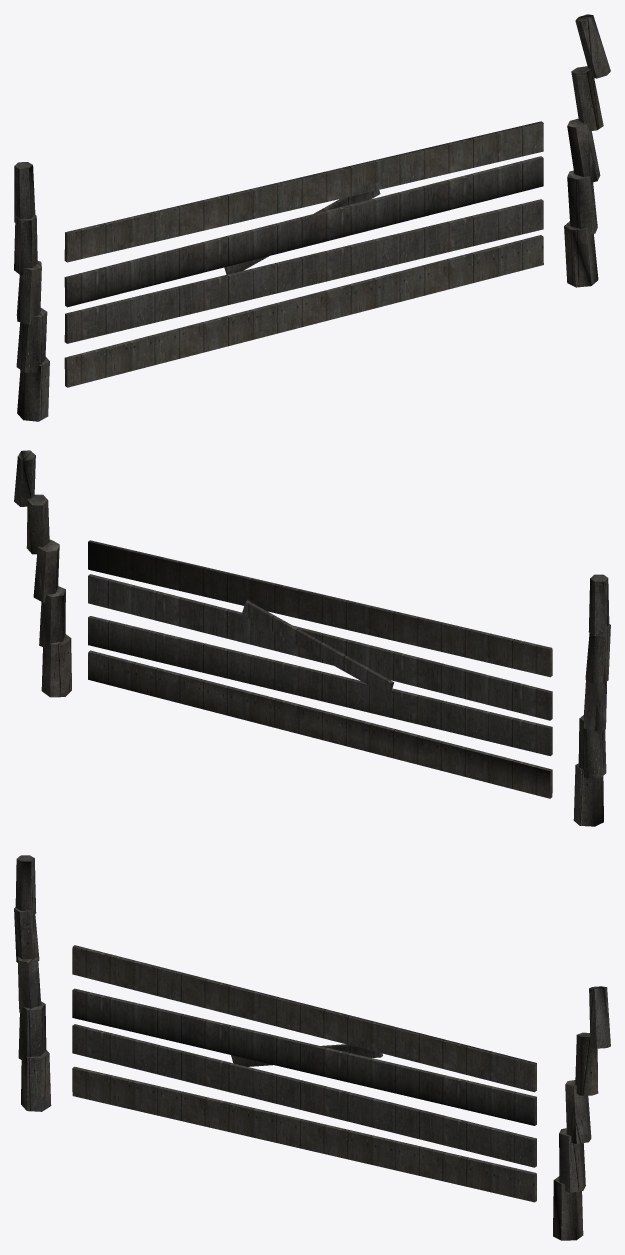
The model's file is plankgate.glb.
3 renders of one model, top to bottom at view 1: azimuth 30°, elevation 25°; view 2: azimuth 150°, elevation 25°; view 3: azimuth 330°, elevation 25°, orthographic. The views are drawn at different scales.
Visible parts, largest first — view 1: plankgate; view 2: plankgate; view 3: plankgate.
Boxes of the visible parts, x1,y1,x2,y2 form: plankgate: (14,14,610,421); plankgate: (14,450,610,826); plankgate: (14,855,610,1240).
Size of the model in its own units: 4.41 by 1.78 by 0.3465.
1 material, 1 textured.
